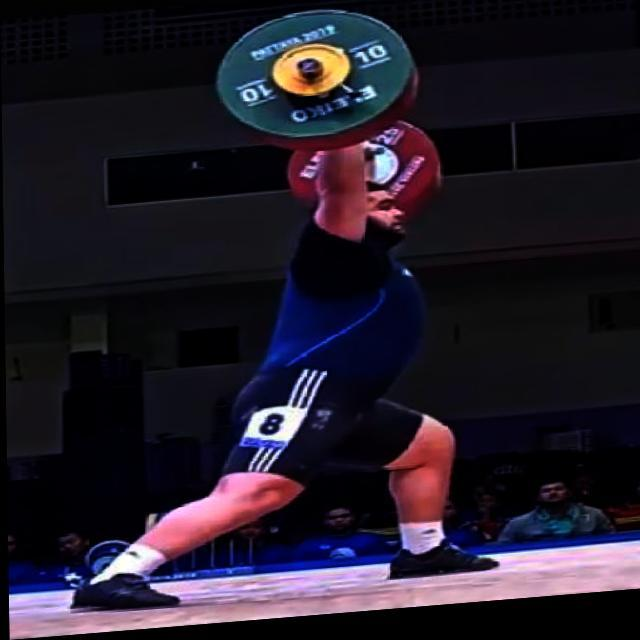barbell: (214, 7, 418, 161)
